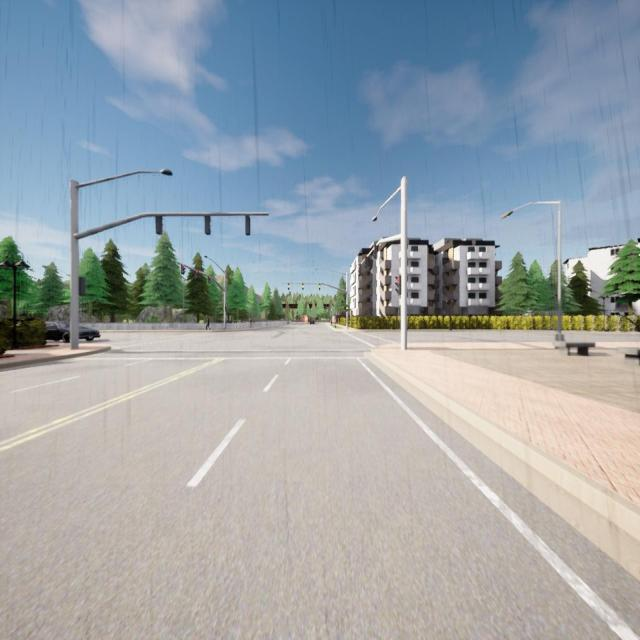Pedestrian: (206, 316, 210, 331)
Vehicle: (44, 322, 101, 342), (310, 320, 314, 325)
traffic_light: (395, 275, 401, 295), (204, 215, 210, 235), (156, 216, 162, 234), (79, 277, 85, 295), (246, 215, 250, 235), (181, 264, 186, 274), (318, 283, 320, 291), (288, 283, 290, 290), (302, 283, 304, 290), (346, 305, 348, 311), (208, 276, 210, 282), (196, 270, 198, 275), (225, 304, 226, 311)
